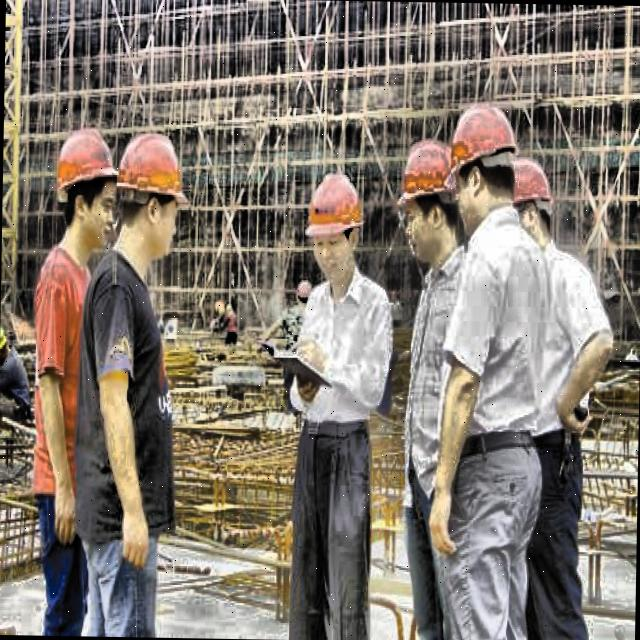helmet: (430, 94, 531, 240), (100, 123, 196, 267), (384, 117, 466, 277), (43, 120, 127, 260), (295, 166, 370, 290), (506, 152, 564, 238)
